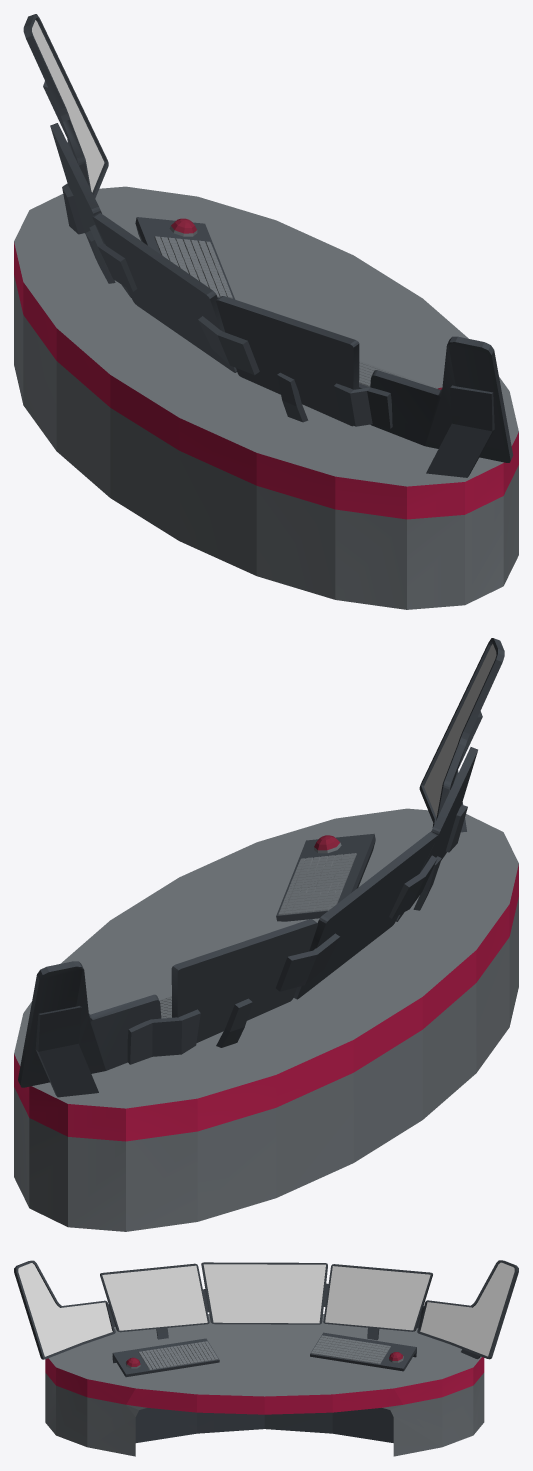
Rendered from Helm.fbx.
The picture shows the model from 3 angles, top to bottom: view 1: azimuth 30°, elevation 25°; view 2: azimuth 150°, elevation 25°; view 3: azimuth 270°, elevation 25°; orthographic projection. The views are drawn at different scales.
Visible parts, largest first — view 1: Helm_Table, Helm_Monitors, Helm_Metal, Helm_Keyboards; view 2: Helm_Table, Helm_Monitors, Helm_Metal, Helm_Keyboards; view 3: Helm_Table, Helm_Monitors, Helm_Keyboards, Helm_Metal.
Boxes of the visible parts, <box> form: Helm_Table: <box>14,186,518,609</box>; Helm_Monitors: <box>23,14,513,462</box>; Helm_Metal: <box>43,81,494,477</box>; Helm_Keyboards: <box>135,217,442,389</box>; Helm_Table: <box>14,808,518,1231</box>; Helm_Monitors: <box>18,638,504,1087</box>; Helm_Metal: <box>35,711,482,1097</box>; Helm_Keyboards: <box>159,833,375,1018</box>; Helm_Table: <box>45,1314,484,1456</box>; Helm_Monitors: <box>14,1260,518,1359</box>; Helm_Keyboards: <box>112,1332,416,1377</box>; Helm_Metal: <box>108,1283,480,1359</box>.
Bounding box in the file's own units: 0.0905 × 0.0783 × 0.2291.
